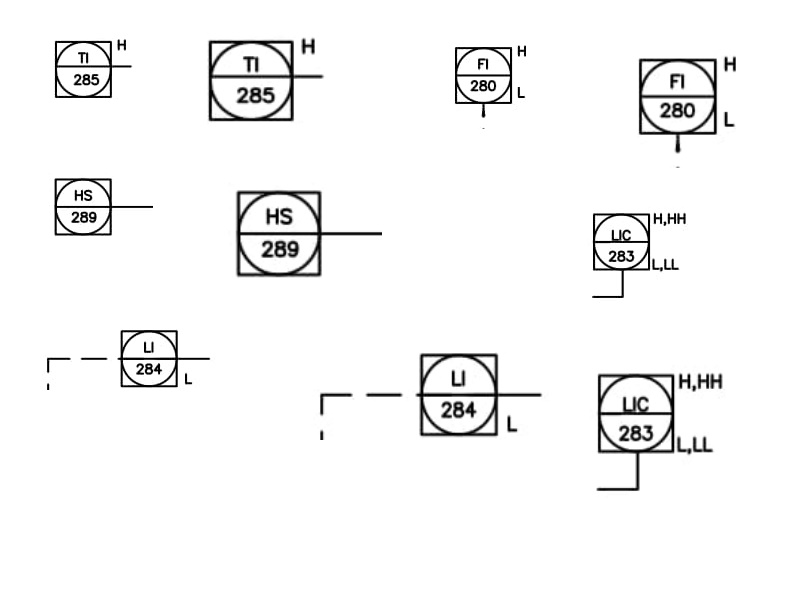Panel Instrument: (231, 186, 327, 280), (203, 35, 298, 125), (419, 348, 503, 440), (595, 369, 679, 461), (636, 55, 721, 139), (52, 38, 115, 101), (52, 176, 115, 239), (118, 326, 181, 389), (451, 44, 514, 107), (589, 211, 652, 274)
